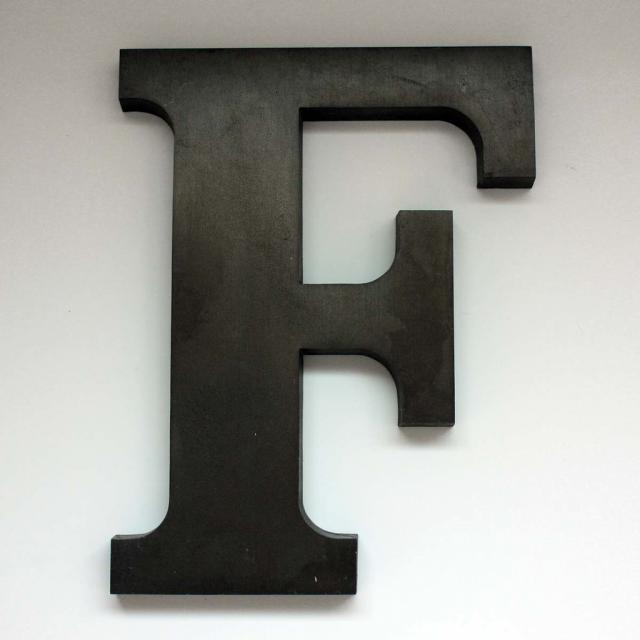F: (64, 11, 554, 614)
